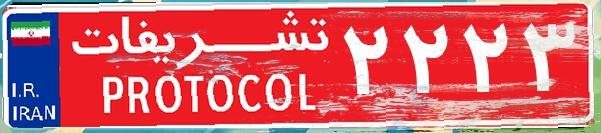2: (340, 20, 400, 115), (400, 20, 460, 115), (460, 20, 520, 115)
3: (520, 20, 580, 115)
تشریفات: (60, 8, 340, 125)
